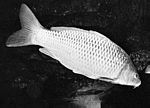fish: (4, 3, 141, 87)
